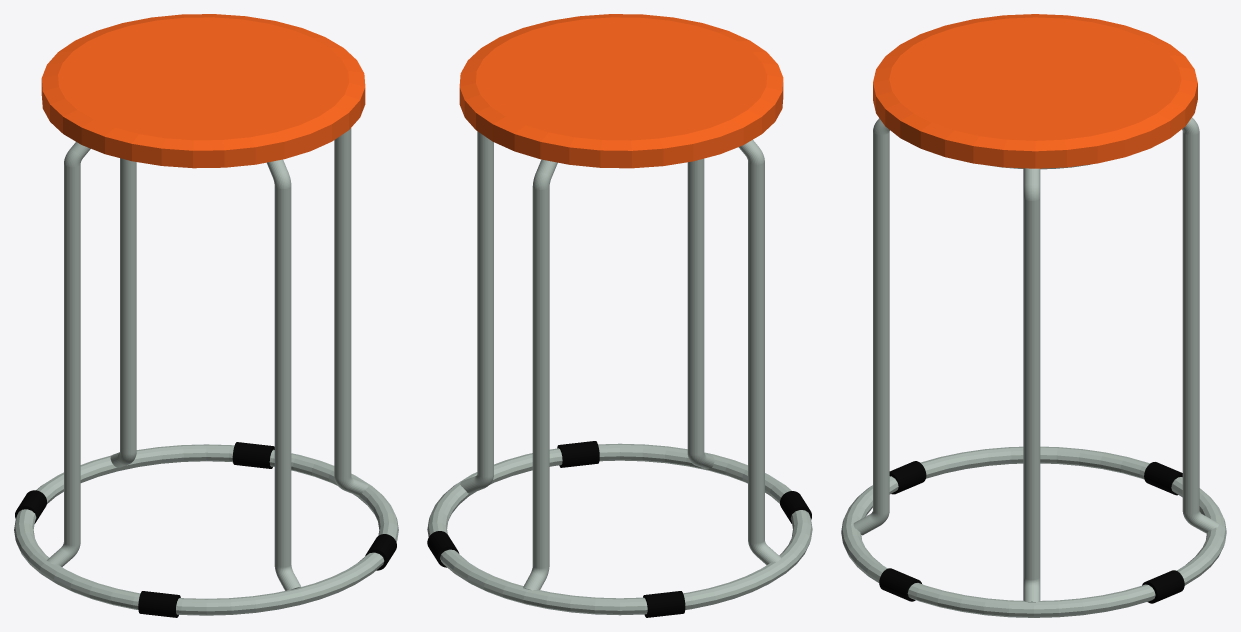
Rendered from Stool2.fbx.
The picture shows the model from 3 angles, left to right: view 1: azimuth 30°, elevation 25°; view 2: azimuth 150°, elevation 25°; view 3: azimuth 270°, elevation 25°; orthographic projection.
Parts seen in each view (by area): view 1: Cylinder.005, Cylinder.011, Cylinder.008, Cylinder.009, Cylinder.010, Cylinder.006, Cylinder.004, Cylinder, Cylinder.003, Cylinder.002; view 2: Cylinder.005, Cylinder.011, Cylinder.006, Cylinder.009, Cylinder.010, Cylinder.008, Cylinder.002, Cylinder.003, Cylinder, Cylinder.004; view 3: Cylinder.005, Cylinder.011, Cylinder.010, Cylinder.006, Cylinder.008, Cylinder, Cylinder.003, Cylinder.004, Cylinder.002.
Part boxes in pixels (x1=…): Cylinder.005: x1=41, y1=14, x2=365, y2=168; Cylinder.011: x1=14, y1=444, x2=398, y2=615; Cylinder.008: x1=267, y1=159, x2=301, y2=590; Cylinder.009: x1=47, y1=142, x2=90, y2=566; Cylinder.010: x1=334, y1=128, x2=368, y2=495; Cylinder.006: x1=110, y1=158, x2=136, y2=467; Cylinder.004: x1=138, y1=591, x2=180, y2=617; Cylinder: x1=232, y1=442, x2=274, y2=468; Cylinder.003: x1=365, y1=534, x2=396, y2=570; Cylinder.002: x1=15, y1=490, x2=46, y2=523; Cylinder.005: x1=459, y1=14, x2=783, y2=168; Cylinder.011: x1=427, y1=443, x2=812, y2=615; Cylinder.006: x1=523, y1=159, x2=557, y2=590; Cylinder.009: x1=738, y1=140, x2=781, y2=565; Cylinder.010: x1=460, y1=131, x2=493, y2=493; Cylinder.008: x1=687, y1=158, x2=714, y2=468; Cylinder.002: x1=643, y1=591, x2=685, y2=617; Cylinder.003: x1=557, y1=441, x2=599, y2=467; Cylinder: x1=427, y1=531, x2=459, y2=567; Cylinder.004: x1=780, y1=491, x2=811, y2=523; Cylinder.005: x1=873, y1=14, x2=1197, y2=168; Cylinder.011: x1=841, y1=446, x2=1226, y2=617; Cylinder.010: x1=1023, y1=168, x2=1040, y2=602; Cylinder.006: x1=1182, y1=117, x2=1218, y2=533; Cylinder.008: x1=853, y1=118, x2=889, y2=535; Cylinder: x1=1142, y1=570, x2=1184, y2=603; Cylinder.003: x1=879, y1=568, x2=921, y2=601; Cylinder.004: x1=889, y1=461, x2=926, y2=494; Cylinder.002: x1=1144, y1=462, x2=1182, y2=495.
Bounding box in the file's own units: 45.73 × 60.5 × 45.73.
